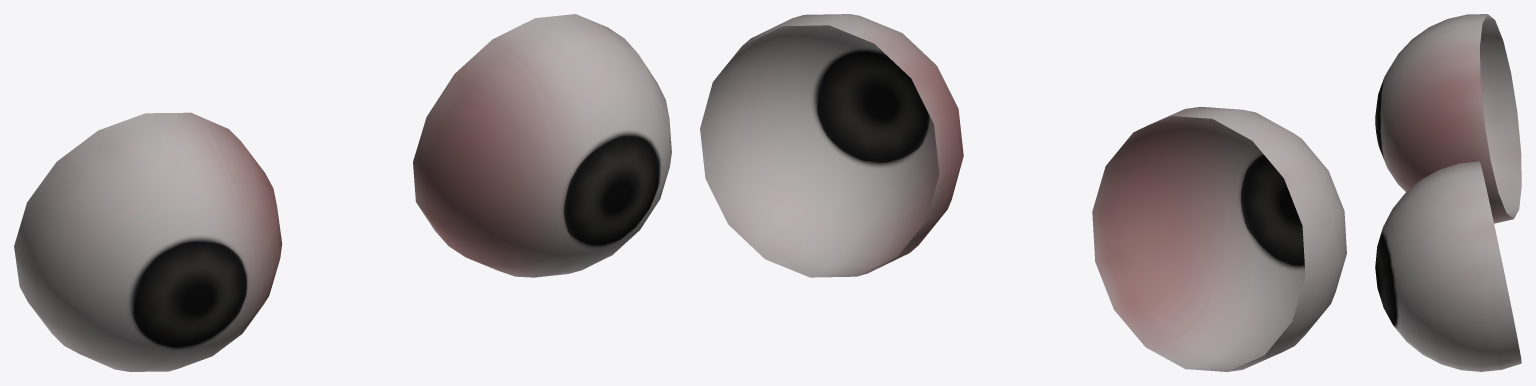
File: eyes.fbx
The picture shows the model from 3 angles, left to right: view 1: azimuth 30°, elevation 25°; view 2: azimuth 150°, elevation 25°; view 3: azimuth 270°, elevation 25°; orthographic projection. The views are drawn at different scales.
Visible parts, largest first — view 1: Eyes; view 2: Eyes; view 3: Eyes.
Part boxes in pixels (x1=…): Eyes: x1=14, y1=14, x2=671, y2=371; Eyes: x1=700, y1=14, x2=1346, y2=371; Eyes: x1=1375, y1=14, x2=1521, y2=371.
Size of the model in its own units: 9.69 by 3.66 by 2.54.
